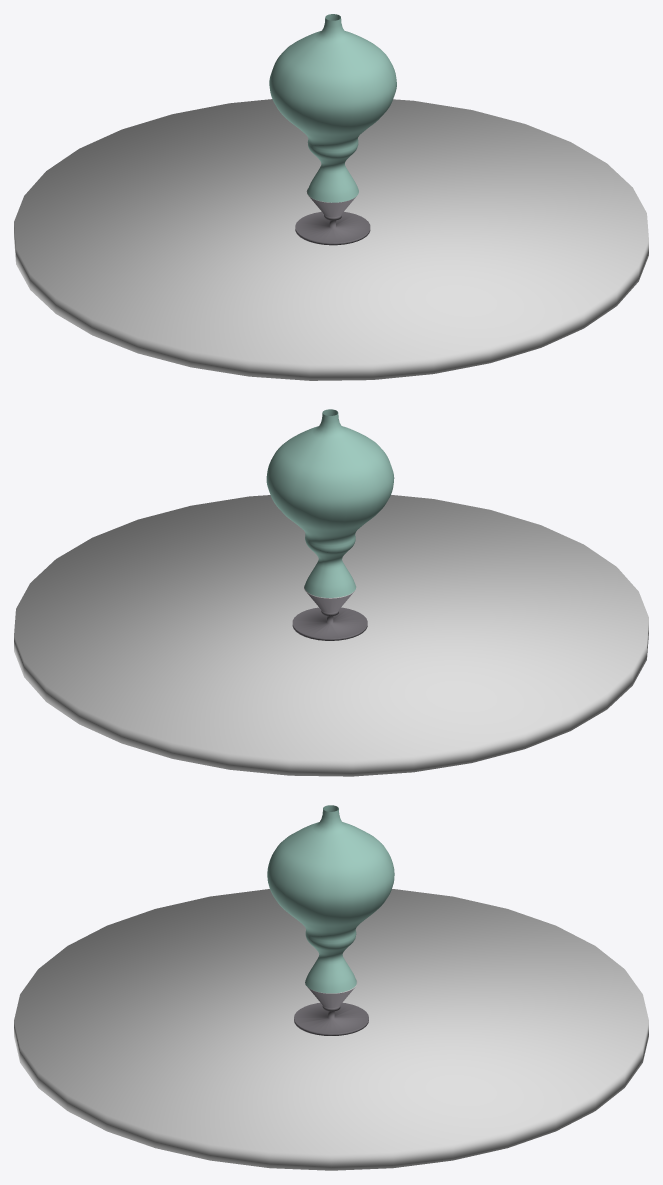
Rendered from LAMP.dae.
3 views of the same model, one above another, from view 1: azimuth 30°, elevation 25°; view 2: azimuth 150°, elevation 25°; view 3: azimuth 270°, elevation 25° (orthographic).
Visible parts, largest first — view 1: Окружность_003, СёрфОкружность_017; view 2: Окружность_003, СёрфОкружность_017; view 3: Окружность_003, СёрфОкружность_017.
Part boxes in pixels (bbox=[...]): Окружность_003: bbox=[14, 99, 648, 380]; СёрфОкружность_017: bbox=[269, 14, 396, 245]; Окружность_003: bbox=[14, 495, 648, 776]; СёрфОкружность_017: bbox=[266, 409, 394, 640]; Окружность_003: bbox=[14, 889, 648, 1170]; СёрфОкружность_017: bbox=[267, 805, 394, 1035].
Bounding box in the file's own units: 16.88 × 16.88 × 6.71.
